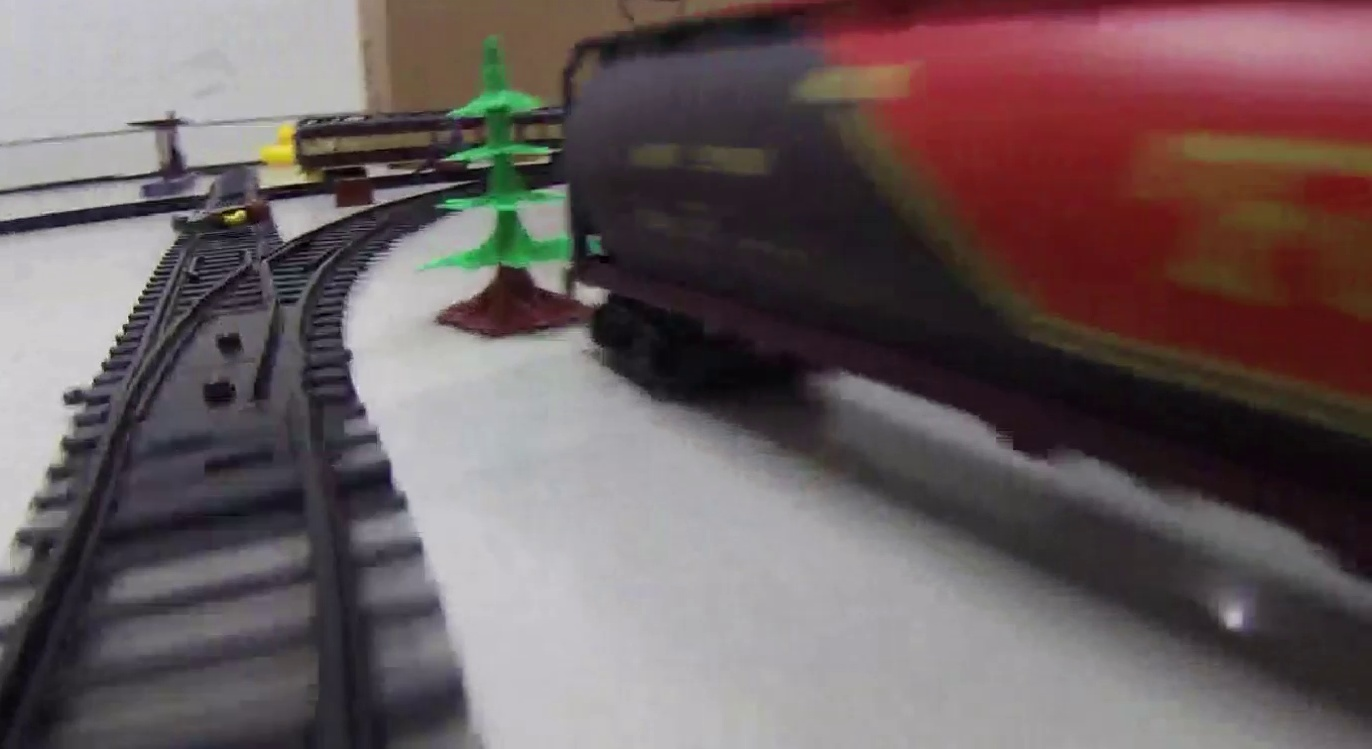tree: (422, 35, 573, 336)
